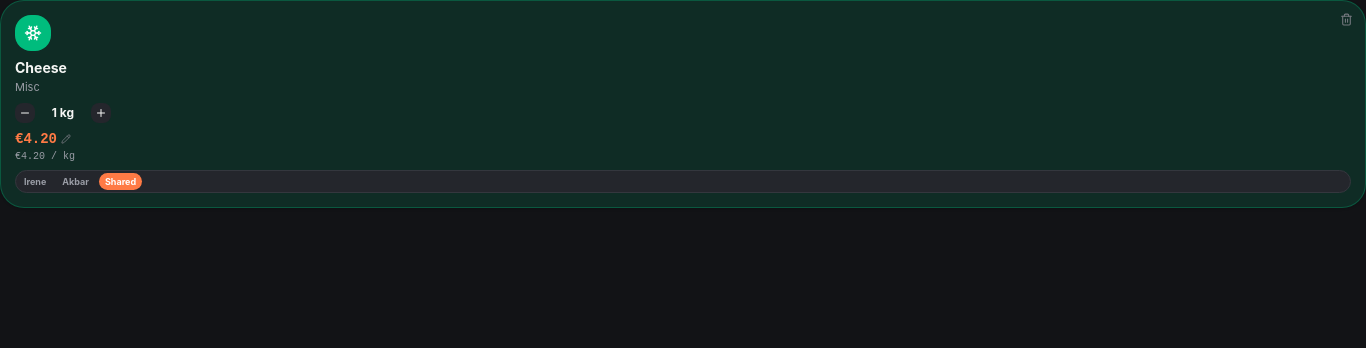
Test: editing a SHOP list entry › shows the saved price with two decimals
Click the button titled "Type the quantity".
click(63, 112)  # box [39,104,87,120]
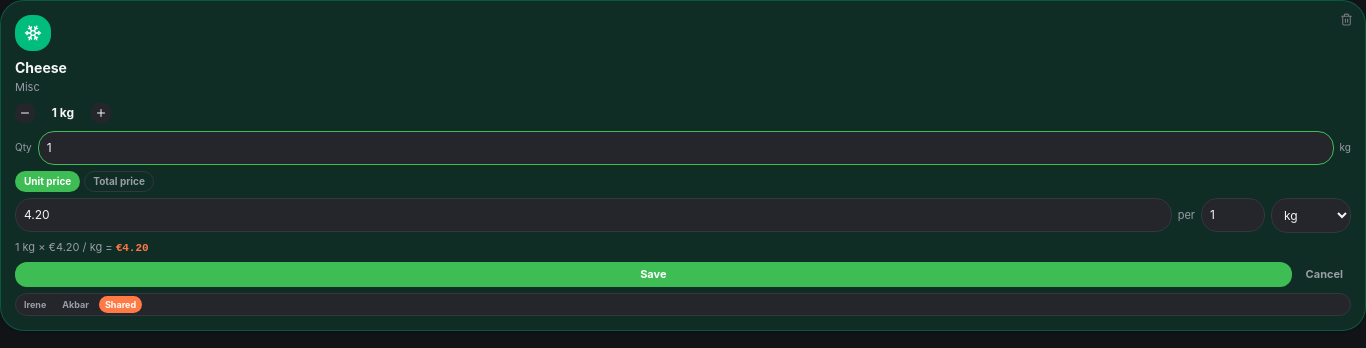
Expected: the field named "Unit price (€)" holds "4.20", [15,198,1172,232]
